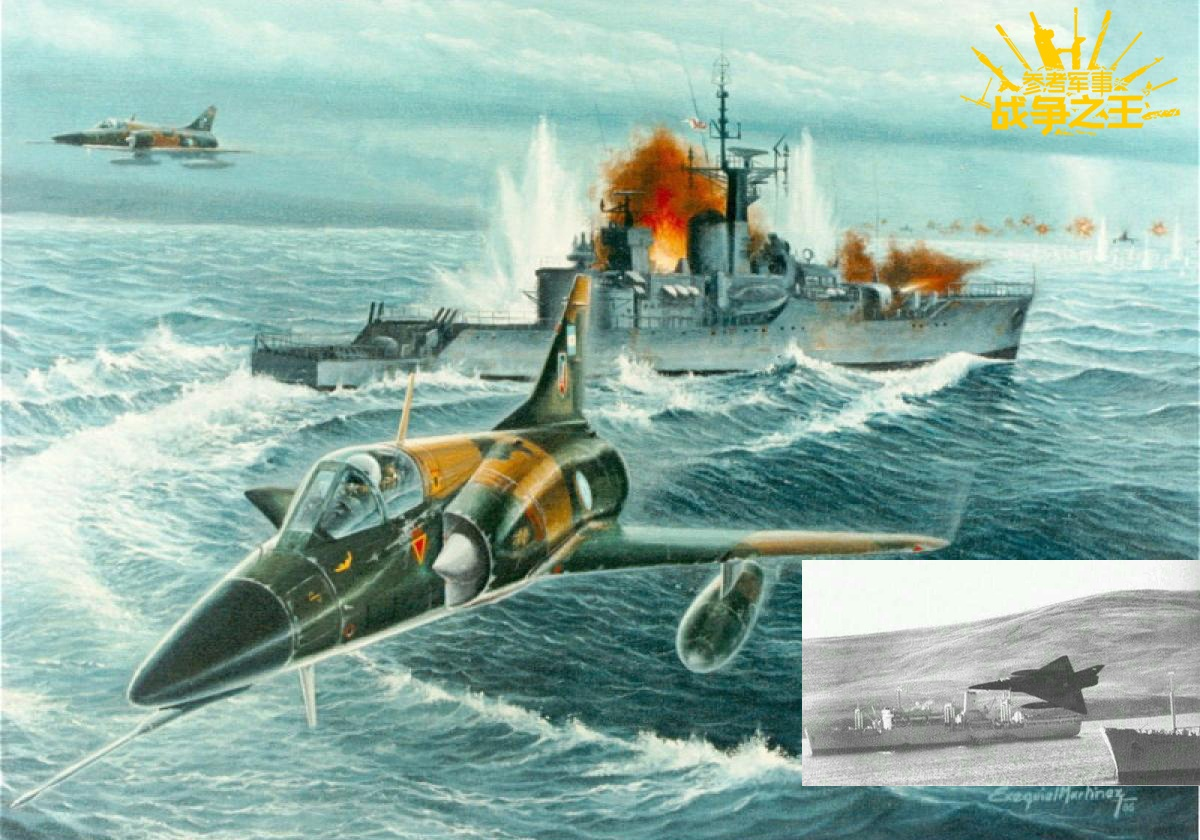airplane: (11, 270, 958, 811), (29, 93, 230, 171), (971, 638, 1113, 728)
warship: (228, 120, 1048, 393), (801, 686, 1091, 757)
